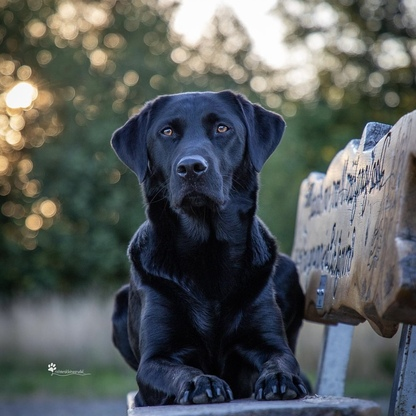labrado: (107, 86, 318, 410)
